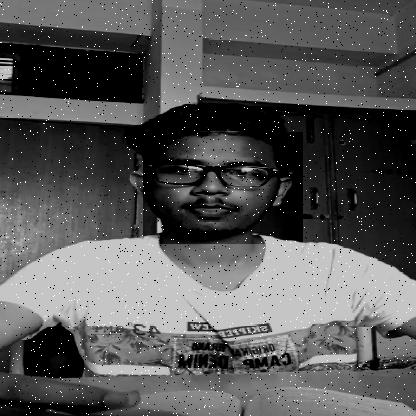Normal: (143, 132, 303, 244)
